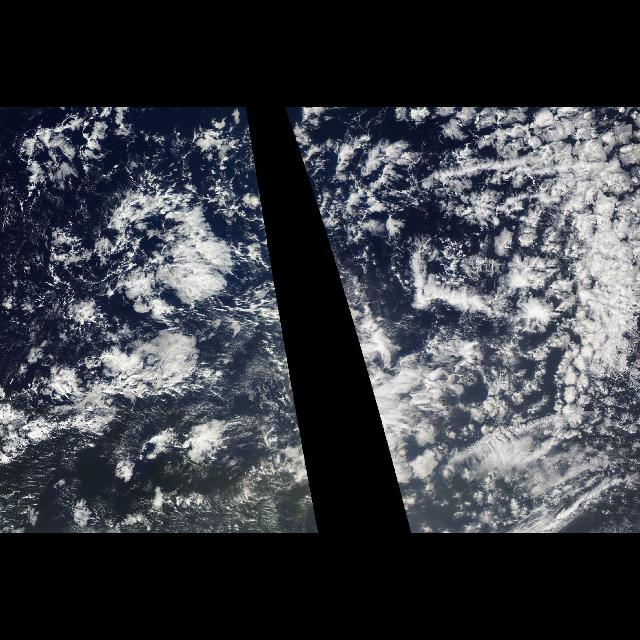Fish: (4, 330, 226, 468)
Flower: (3, 112, 253, 522), (338, 110, 638, 447)
